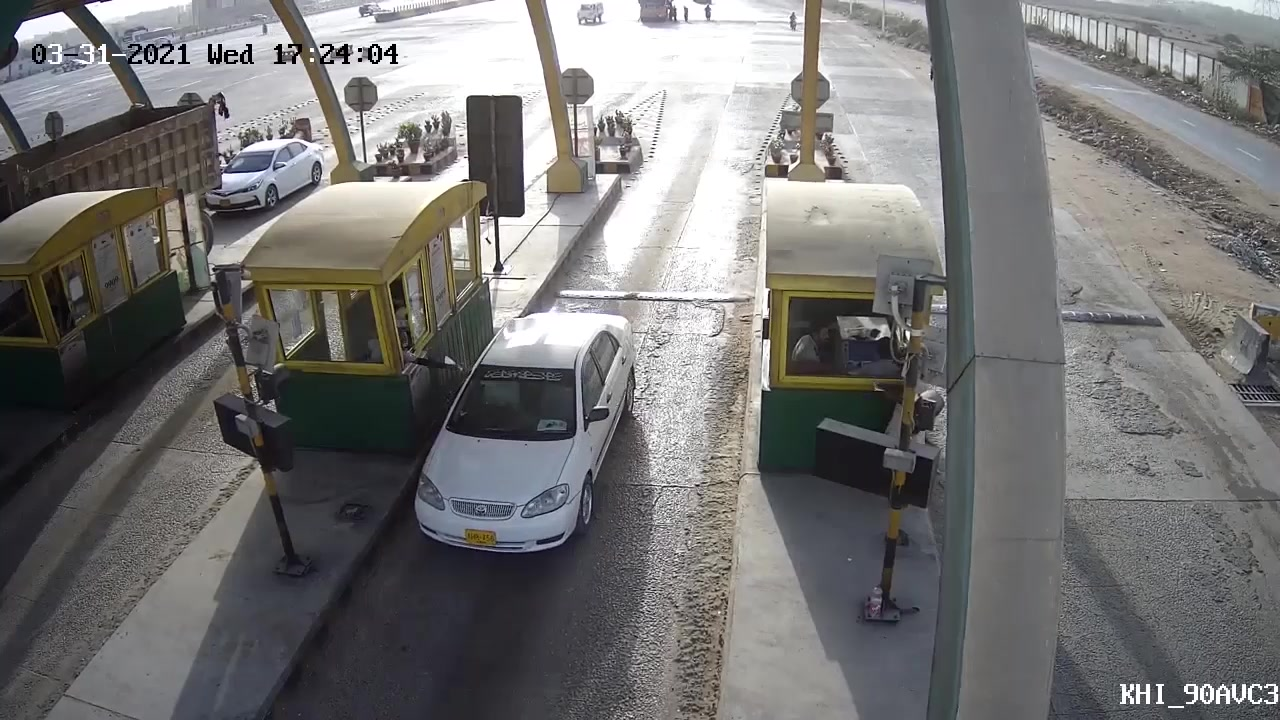F1: (407, 304, 648, 565)
